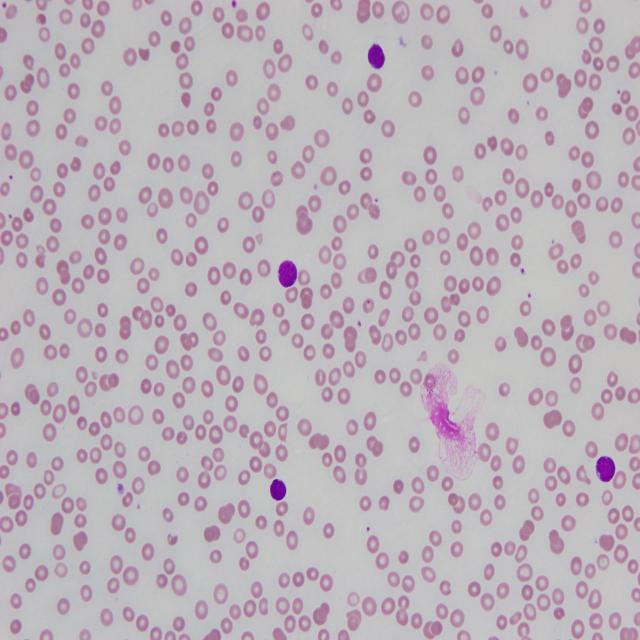cell: (278, 260, 298, 288), (596, 457, 615, 482), (368, 43, 385, 68), (270, 478, 286, 500)
